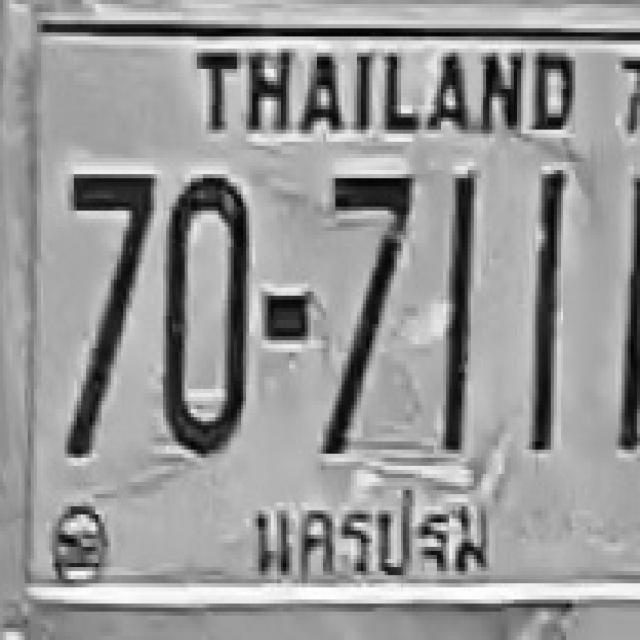0: (162, 172, 248, 456)
1: (530, 168, 564, 427), (442, 170, 476, 425)
7: (323, 172, 412, 452), (68, 170, 154, 450)
NakhonPathom: (244, 480, 496, 606)
